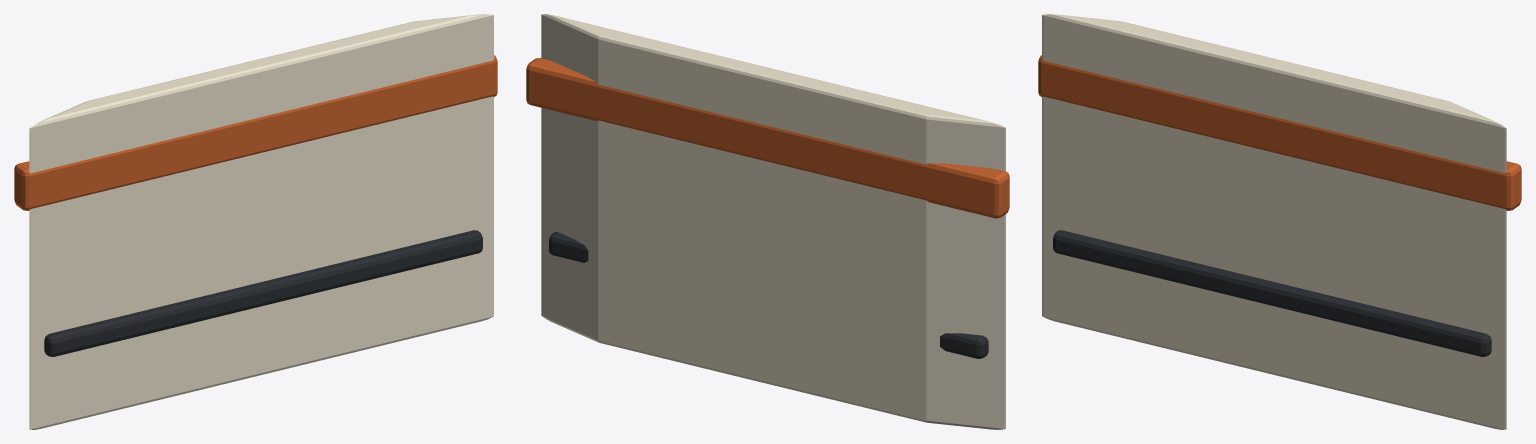
File: wing_panel.glb
The picture shows the model from 3 angles, left to right: view 1: azimuth 30°, elevation 25°; view 2: azimuth 150°, elevation 25°; view 3: azimuth 330°, elevation 25°; orthographic projection.
Parts seen in each view (by area): view 1: skin, band, spar; view 2: skin, band, spar; view 3: skin, band, spar.
Part boxes in pixels (box(x1,y1,x2,y2)): skin: box(29, 14, 493, 429); band: box(14, 55, 497, 210); spar: box(44, 230, 482, 356); skin: box(541, 14, 1005, 429); band: box(526, 58, 1009, 218); spar: box(549, 232, 988, 358); skin: box(1042, 14, 1506, 429); band: box(1038, 55, 1521, 210); spar: box(1053, 230, 1491, 356).
Size of the model in its own units: 1.42 by 0.88 by 0.0925.
